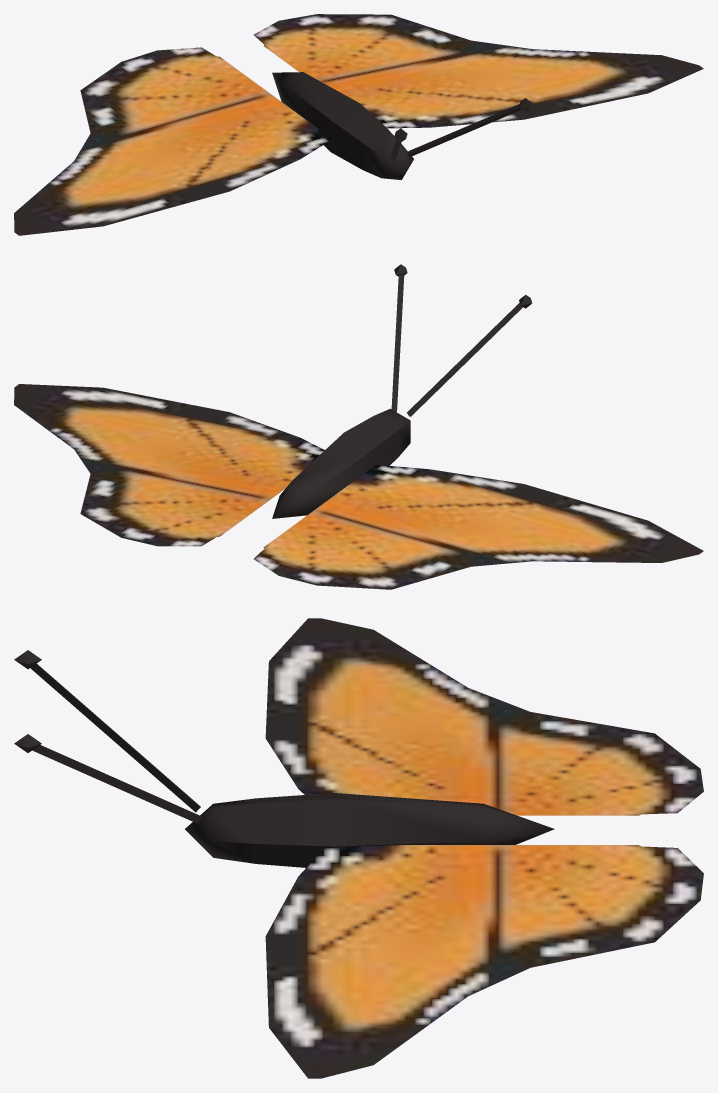
Rendered from monarch-butterfly.glb.
The picture shows the model from 3 angles, top to bottom: view 1: azimuth 30°, elevation 25°; view 2: azimuth 150°, elevation 25°; view 3: azimuth 270°, elevation 25°; orthographic projection. The views are drawn at different scales.
Visible parts, largest first — view 1: monarch-butterfly; view 2: monarch-butterfly; view 3: monarch-butterfly.
Boxes of the visible parts, x1=… form: monarch-butterfly: x1=14, y1=14, x2=703, y2=235; monarch-butterfly: x1=14, y1=264, x2=703, y2=589; monarch-butterfly: x1=14, y1=618, x2=703, y2=1078.
Size of the model in its own units: 6.53 by 1.14 by 4.13.
2 materials, 1 textured.
